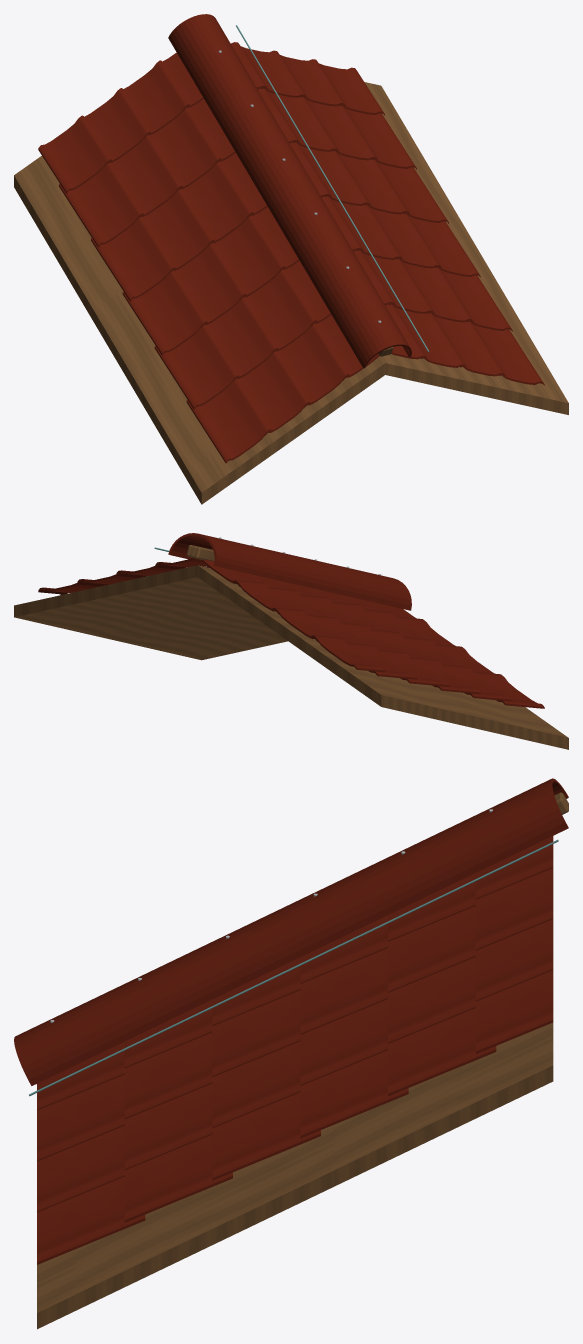
Rendered from modell.glb.
The picture shows the model from 3 angles, top to bottom: view 1: azimuth 30°, elevation 25°; view 2: azimuth 150°, elevation 25°; view 3: azimuth 270°, elevation 25°; orthographic projection. The views are drawn at different scales.
Visible parts, largest first — view 1: w04-ziegel_deckung, w04-walmflaeche_tragwerk, w04-gratziegel_deckung, w04-bezuege_; view 2: w04-walmflaeche_tragwerk, w04-ziegel_deckung, w04-gratziegel_deckung, w04-gratlatte_lattung; view 3: w04-ziegel_deckung, w04-gratziegel_deckung, w04-walmflaeche_tragwerk, w04-bezuege_.
Boxes of the visible parts, x1,y1,x2,y2 form: w04-ziegel_deckung: [38, 42, 544, 463]; w04-walmflaeche_tragwerk: [14, 82, 568, 504]; w04-gratziegel_deckung: [168, 14, 411, 368]; w04-bezuege_: [236, 25, 429, 352]; w04-walmflaeche_tragwerk: [14, 565, 568, 749]; w04-ziegel_deckung: [38, 558, 544, 708]; w04-gratziegel_deckung: [168, 533, 411, 610]; w04-gratlatte_lattung: [186, 545, 214, 561]; w04-ziegel_deckung: [37, 836, 553, 1264]; w04-gratziegel_deckung: [14, 778, 568, 1085]; w04-walmflaeche_tragwerk: [37, 1022, 553, 1329]; w04-bezuege_: [29, 839, 558, 1096].
Size of the model in its own units: 2.26 by 1.81 by 2.15.
4 materials, 2 textured.
